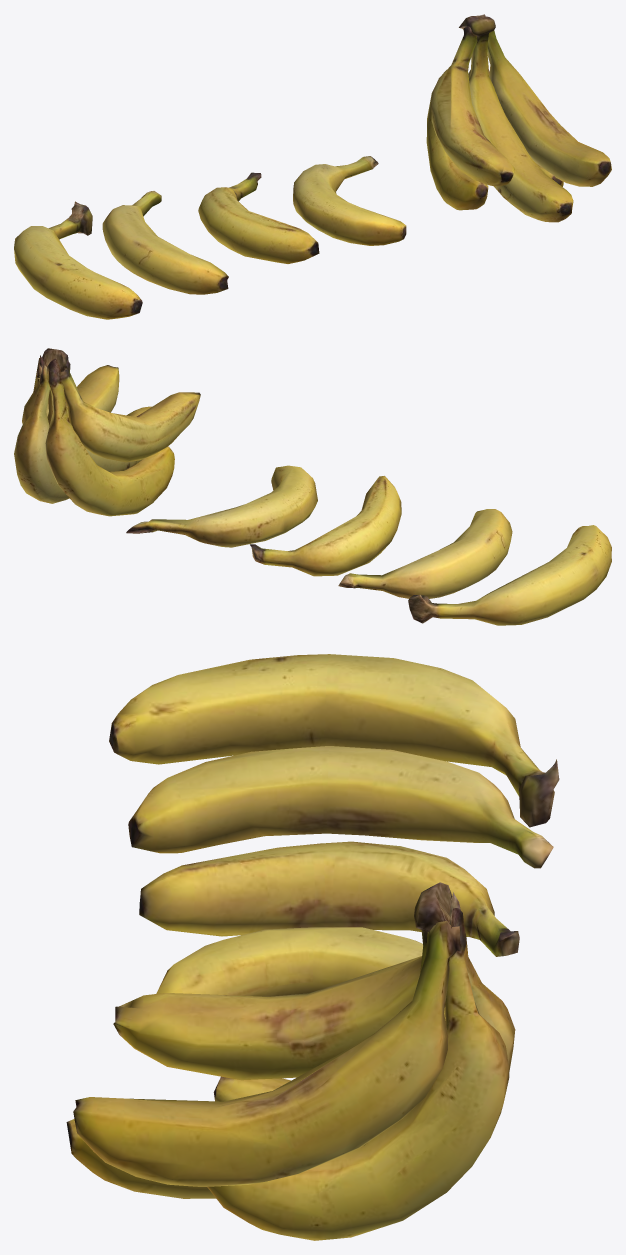
Rendered from bananas.glb.
3 renders of one model, top to bottom at view 1: azimuth 30°, elevation 25°; view 2: azimuth 150°, elevation 25°; view 3: azimuth 270°, elevation 25°, orthographic. The views are drawn at different scales.
Visible parts, largest first — view 1: bananas_bunch; view 2: bananas_bunch; view 3: bananas_bunch.
Part boxes in pixels (<box>): bananas_bunch: <box>14,14,611,319</box>; bananas_bunch: <box>14,348,611,625</box>; bananas_bunch: <box>66,654,559,1240</box>.
Bounding box in the file's own units: 0.5998 × 0.1781 × 0.2438.
1 material, 1 textured.
